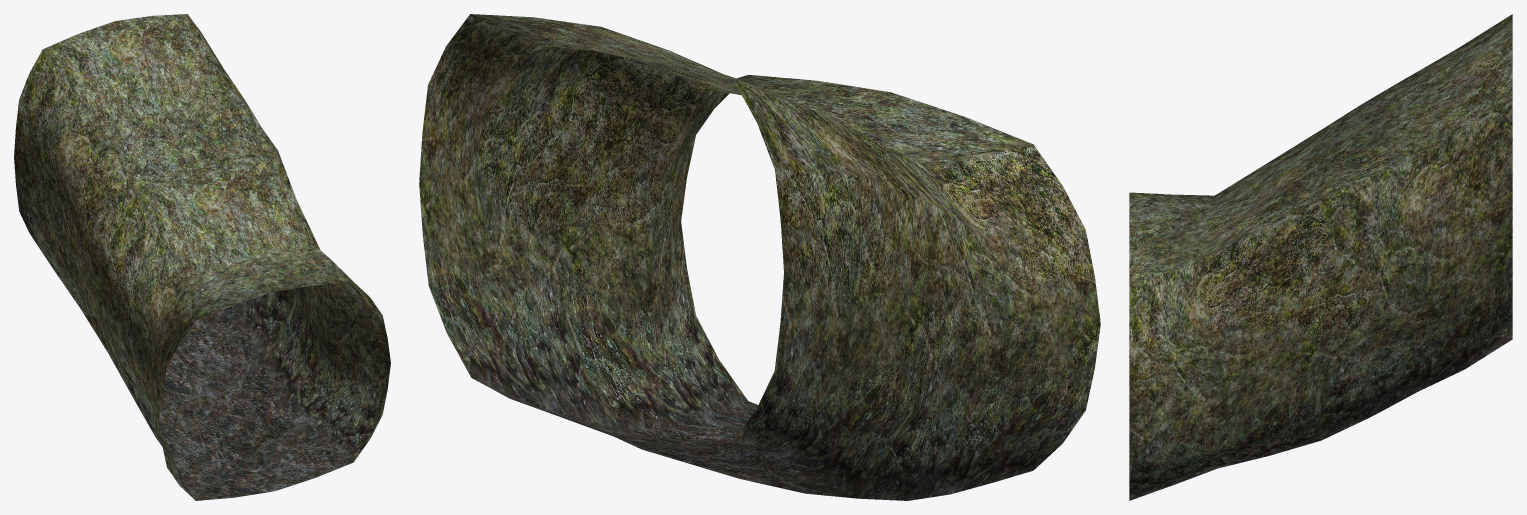
Rendered from thm_all_cave_s03_damprock_r15_r15.fbx.
3 views of the same model, side by side, from view 1: azimuth 30°, elevation 25°; view 2: azimuth 150°, elevation 25°; view 3: azimuth 270°, elevation 25° (orthographic). The views are drawn at different scales.
Parts seen in each view (by area): view 1: mesh_node; view 2: mesh_node; view 3: mesh_node.
Part boxes in pixels (x1,y1,x2,y2): mesh_node: [14, 14, 390, 500]; mesh_node: [419, 14, 1100, 500]; mesh_node: [1129, 14, 1512, 500].
Size of the model in its own units: 10.42 by 15.14 by 12.44.
